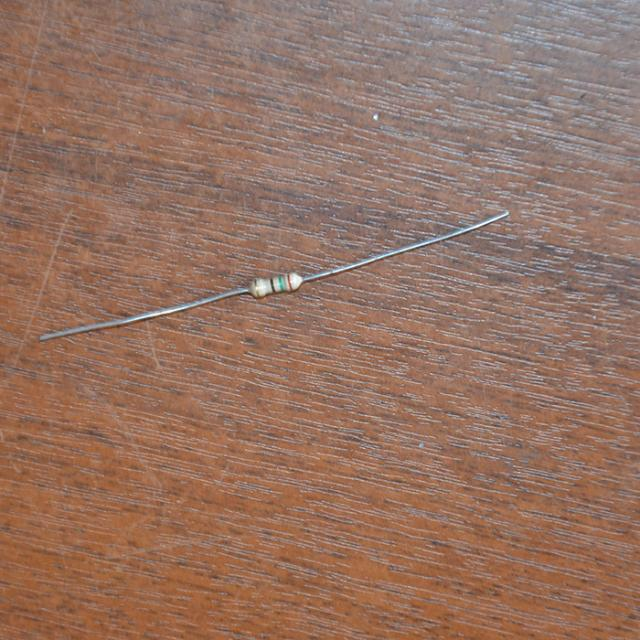black: (270, 278, 275, 292)
brown: (287, 275, 292, 289)
gold: (254, 280, 258, 295)
green: (278, 278, 284, 291)
resistor: (242, 267, 308, 306)
